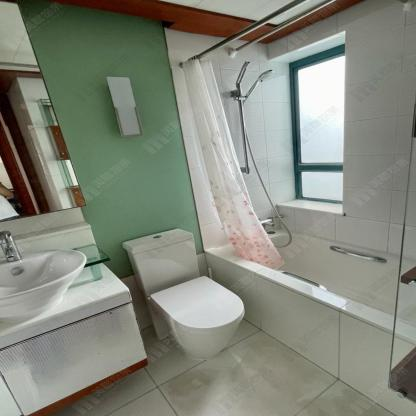Bathtub: (203, 227, 416, 416)
Faucet: (0, 229, 24, 263)
Toilet: (121, 228, 249, 364)
Toilet Sink: (0, 249, 88, 323)
